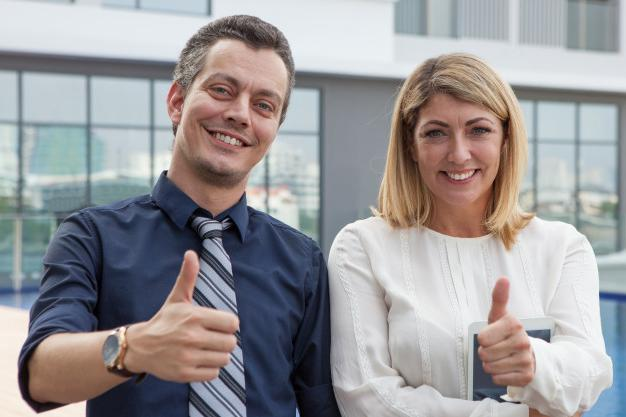thumbsup: (168, 250, 240, 383), (477, 277, 534, 387)
